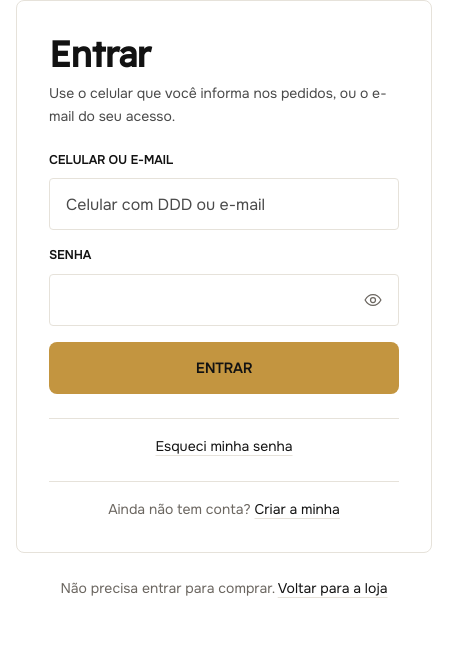
o que não e celular nem e-mail não chega a virar requisição
This screenshot has width=449, height=662.
Type "maria" into the field labelled "Celular ou e-mail".
click(224, 204); type("maria")  # box [49,178,399,230]
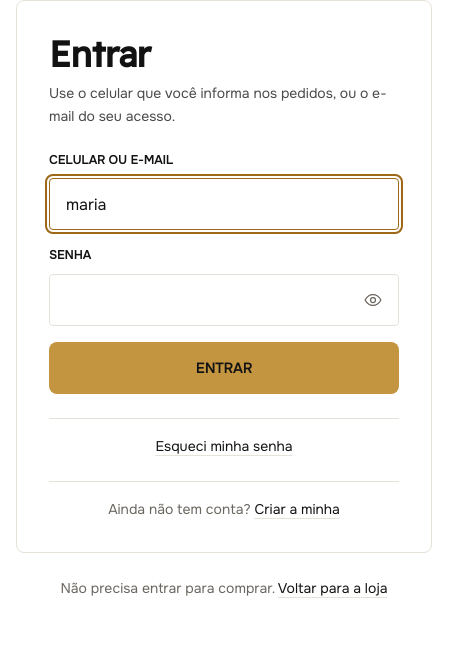
Type "segredo12345" into the password field labelled "Senha".
click(224, 300); type("segredo12345")  # box [49,274,399,326]
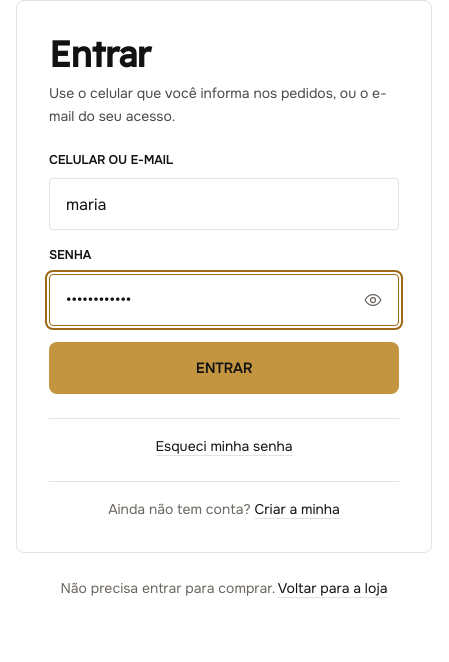
Click the button named "Entrar".
click(224, 368)  # box [49,342,399,394]
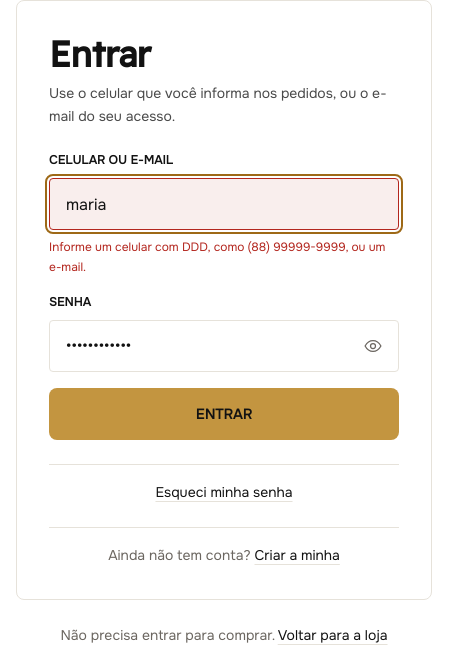
Expected: the text "Informe um celular com DDD, como (88) 99999-9999, ou um e-mail." is shown, [49,238,399,277]
